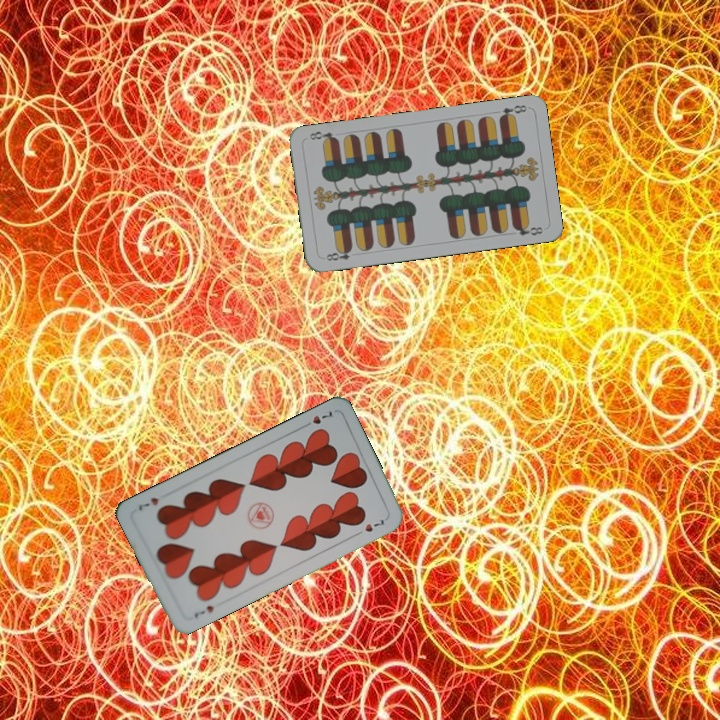E8: (495, 101, 529, 122), (319, 244, 355, 263)
H7: (299, 407, 335, 431), (190, 601, 216, 622)
